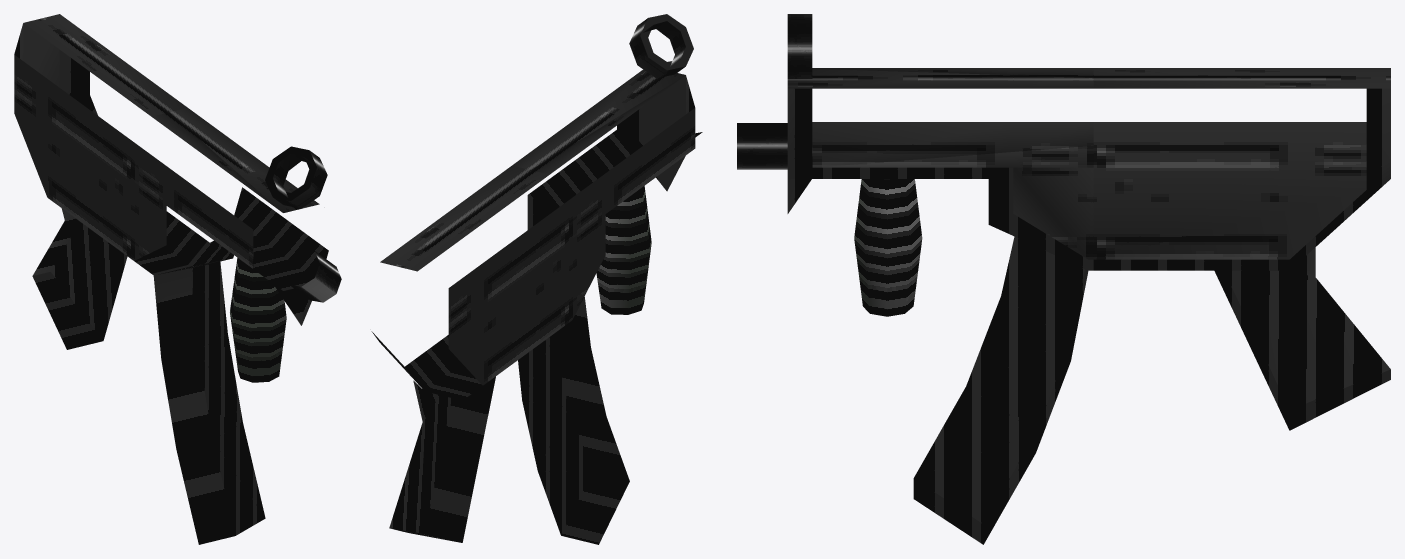
File: gun.glb
3 views of the same model, side by side, from view 1: azimuth 30°, elevation 25°; view 2: azimuth 150°, elevation 25°; view 3: azimuth 270°, elevation 25° (orthographic). The views are drawn at different scales.
Parts seen in each view (by area): view 1: m7, m6, m5, m8, m4; view 2: m7, m6, m5, m8, m4; view 3: m7, m6, m5, m8, m4.
Part boxes in pixels (<box>): m7: <box>14,23,328,544</box>; m6: <box>14,55,253,268</box>; m5: <box>24,14,319,212</box>; m8: <box>230,258,286,382</box>; m4: <box>273,150,341,302</box>; m7: <box>371,14,694,544</box>; m6: <box>448,108,695,385</box>; m5: <box>380,69,685,271</box>; m8: <box>596,186,651,314</box>; m4: <box>629,18,702,137</box>; m7: <box>787,88,1390,544</box>; m6: <box>812,122,1366,259</box>; m5: <box>787,68,1390,88</box>; m8: <box>854,179,922,316</box>; m4: <box>737,14,812,169</box>.
Bounding box in the file's own units: 58 × 328 × 374.
5 materials, 5 textured.
